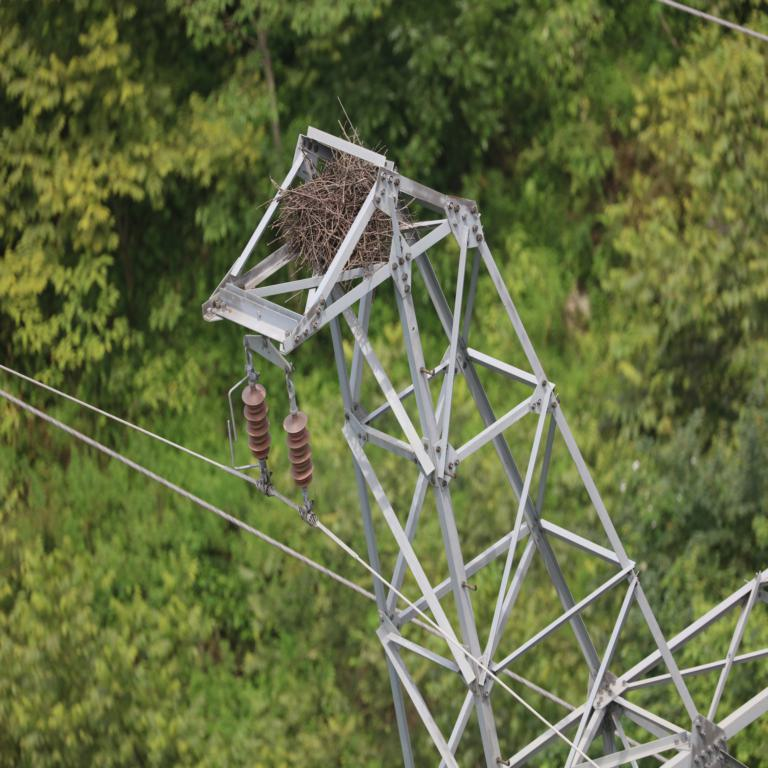nest: (277, 150, 393, 270)
